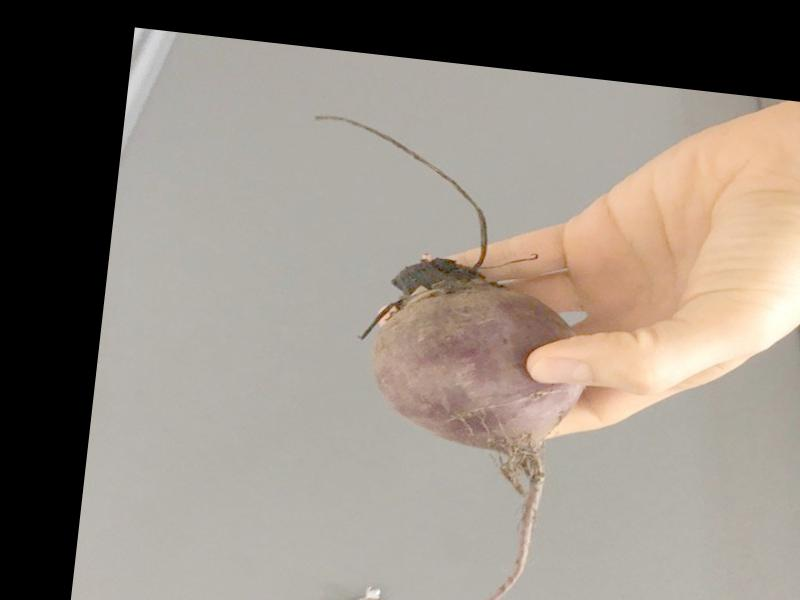Beet: (258, 113, 611, 600)
